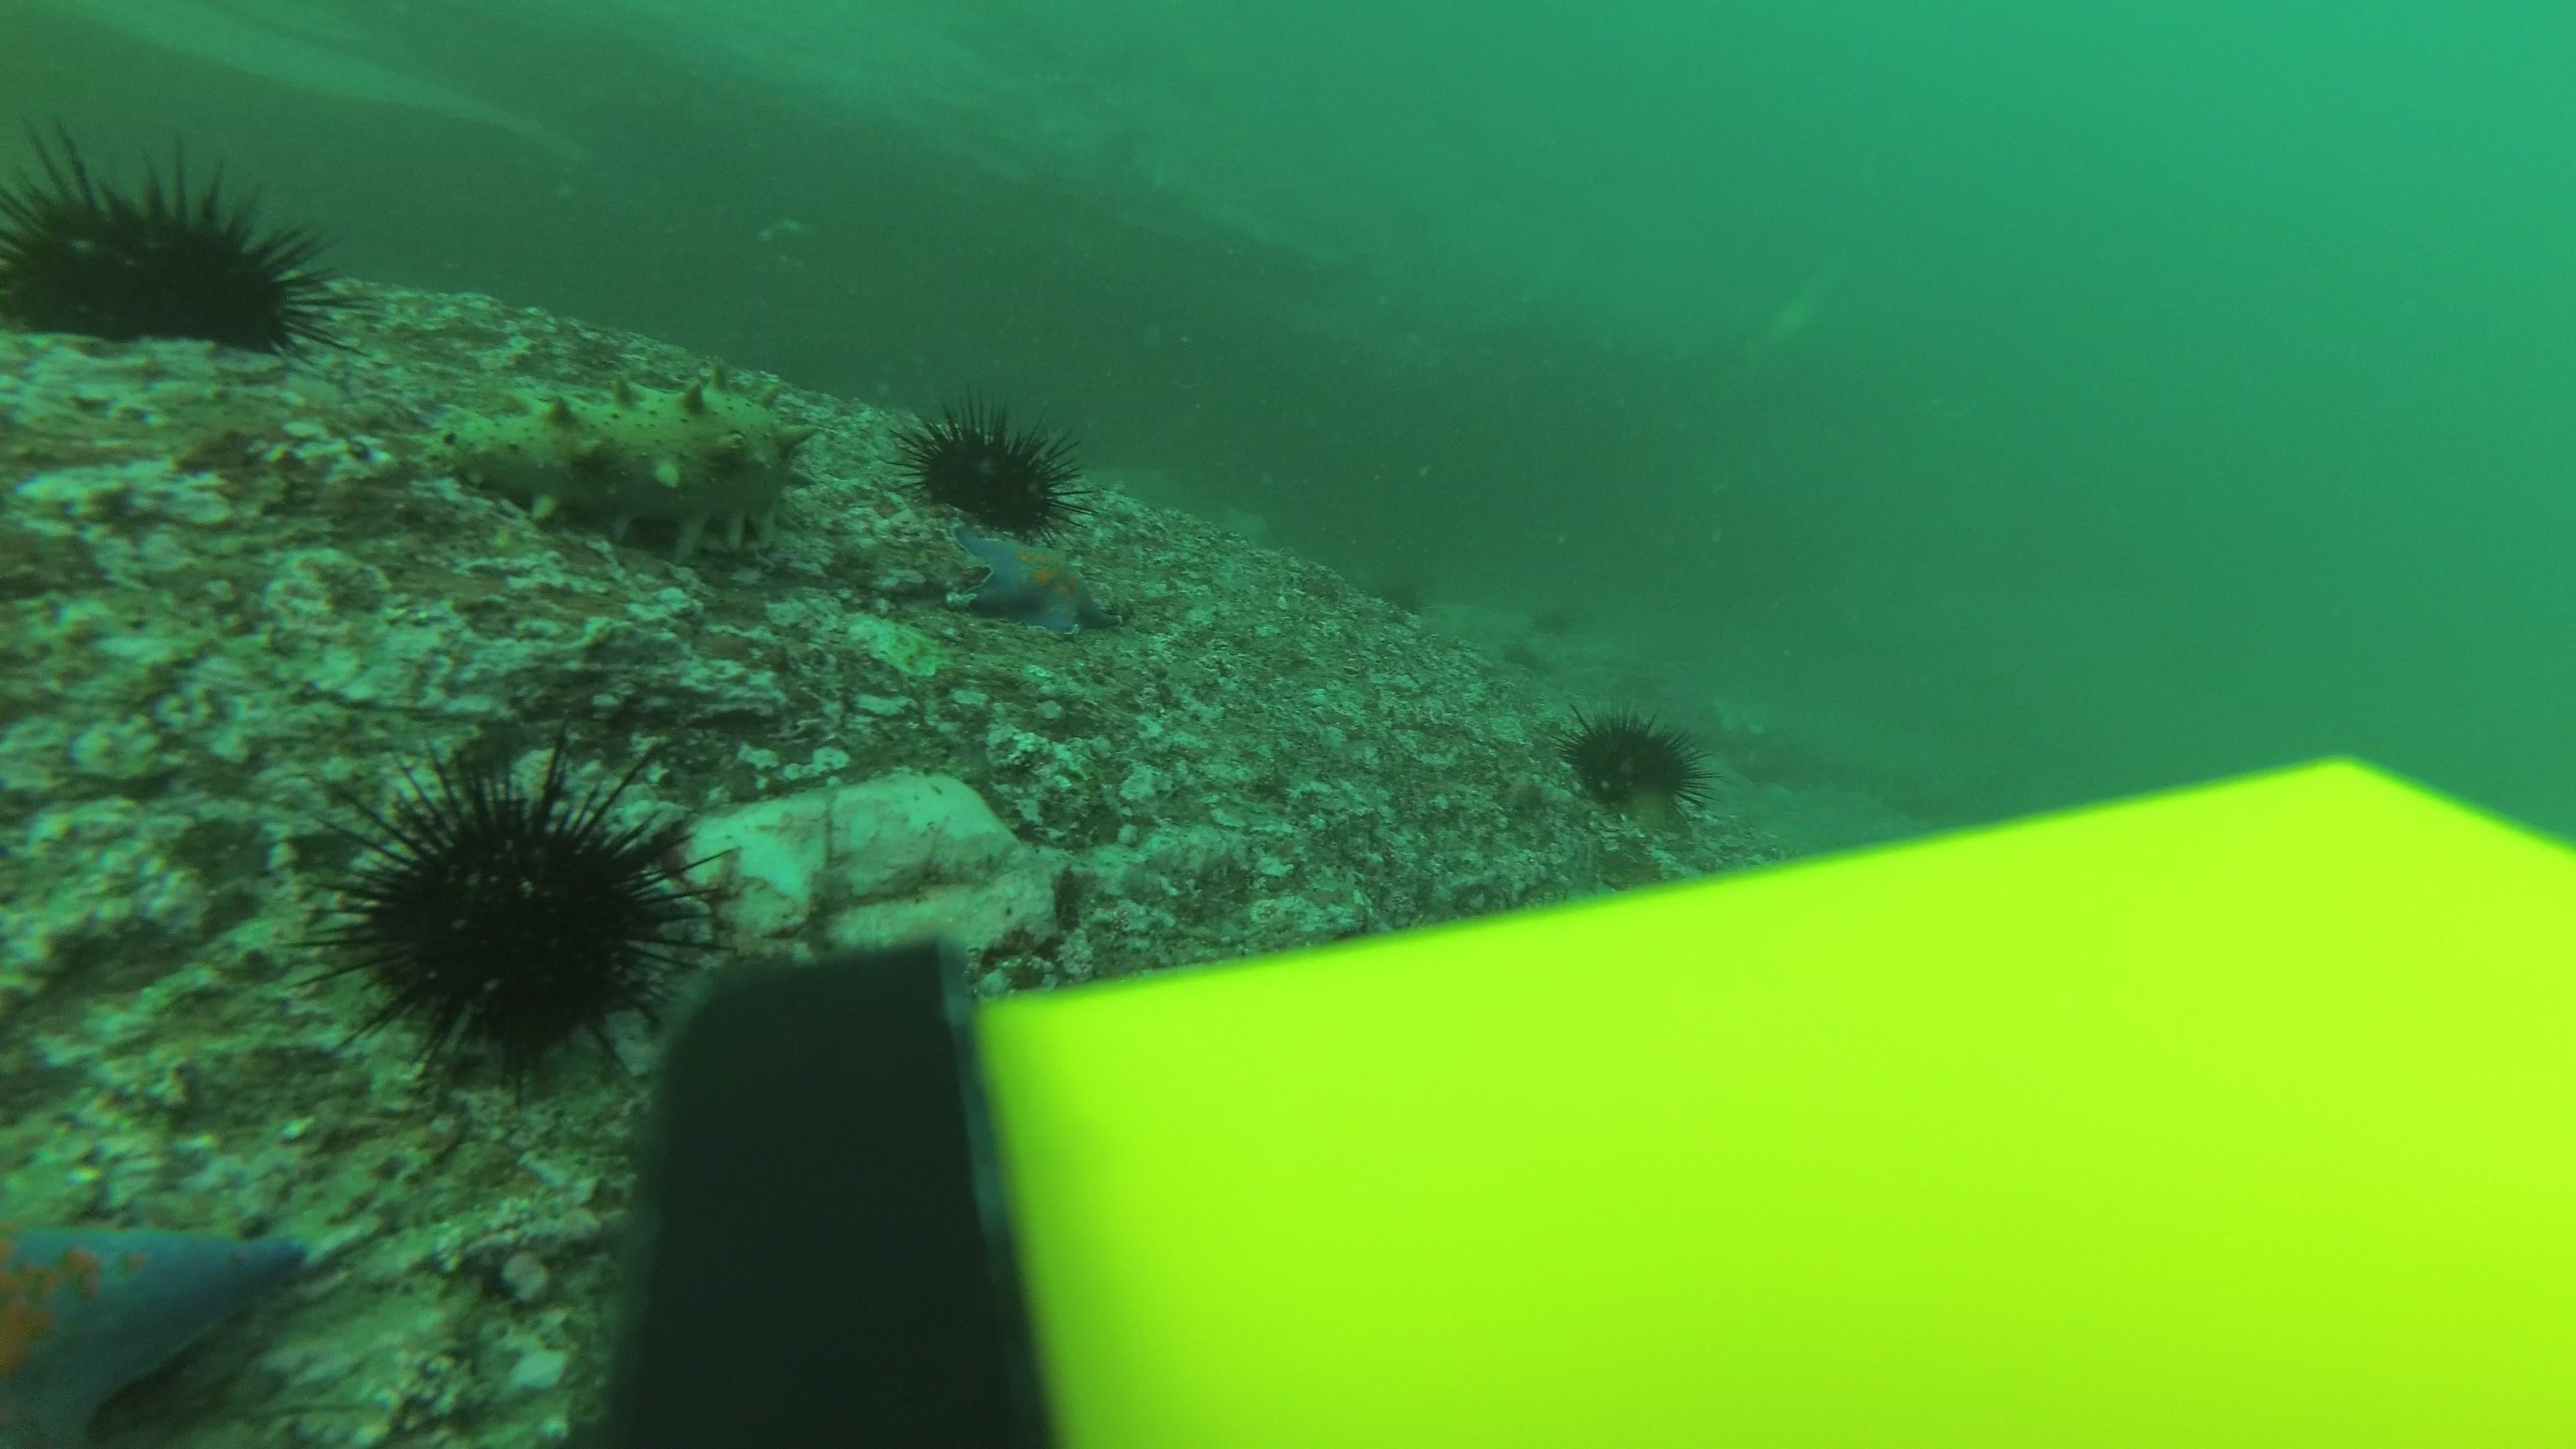echinus: (313, 740, 718, 1081), (0, 119, 345, 364), (901, 396, 1083, 533), (1562, 702, 1706, 812), (1362, 575, 1435, 625), (1497, 635, 1548, 686), (1532, 602, 1575, 640)
holothurian: (442, 372, 817, 559)
starfish: (2, 1201, 318, 1440), (947, 518, 1123, 640)
